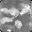people: (8, 6, 20, 18), (1, 16, 14, 24), (20, 4, 30, 14), (15, 19, 22, 29), (1, 7, 9, 15)
